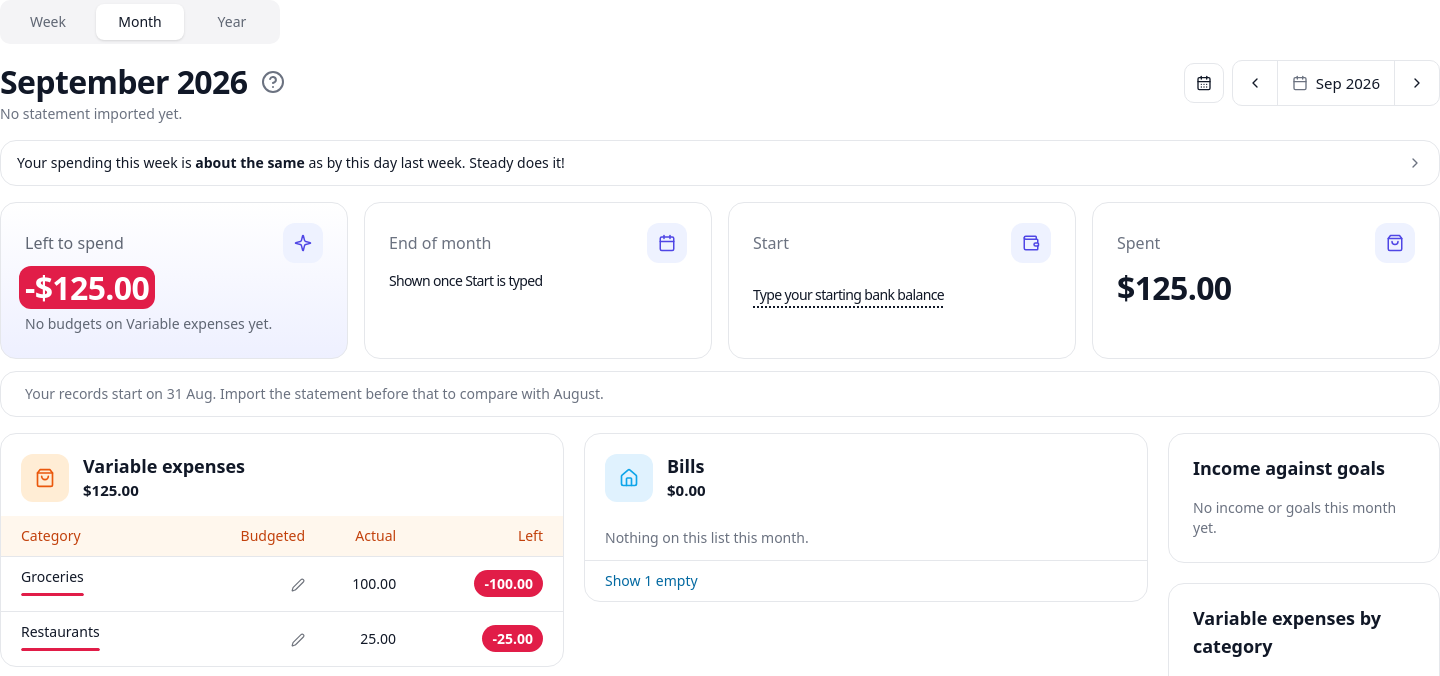
Test: Moving a charge from the Month › moves it, learns the shop by default, and re-reads the month
Expected: the column heading "Groceries" is shown, [1,556,182,611]
Click the button "Groceries": (52, 581) [21,567,84,596]
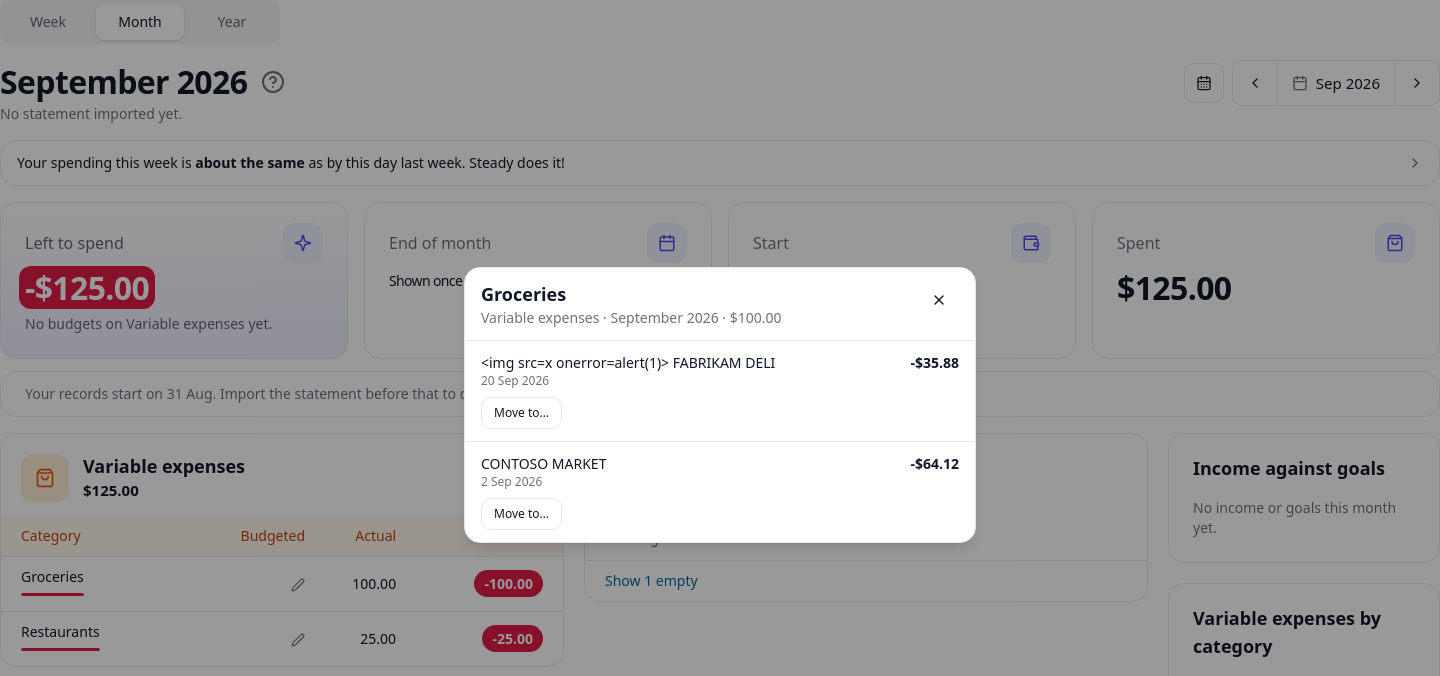
Click the button "Move to…" below "CONTOSO MARKET": (522, 514) [481,498,562,530]
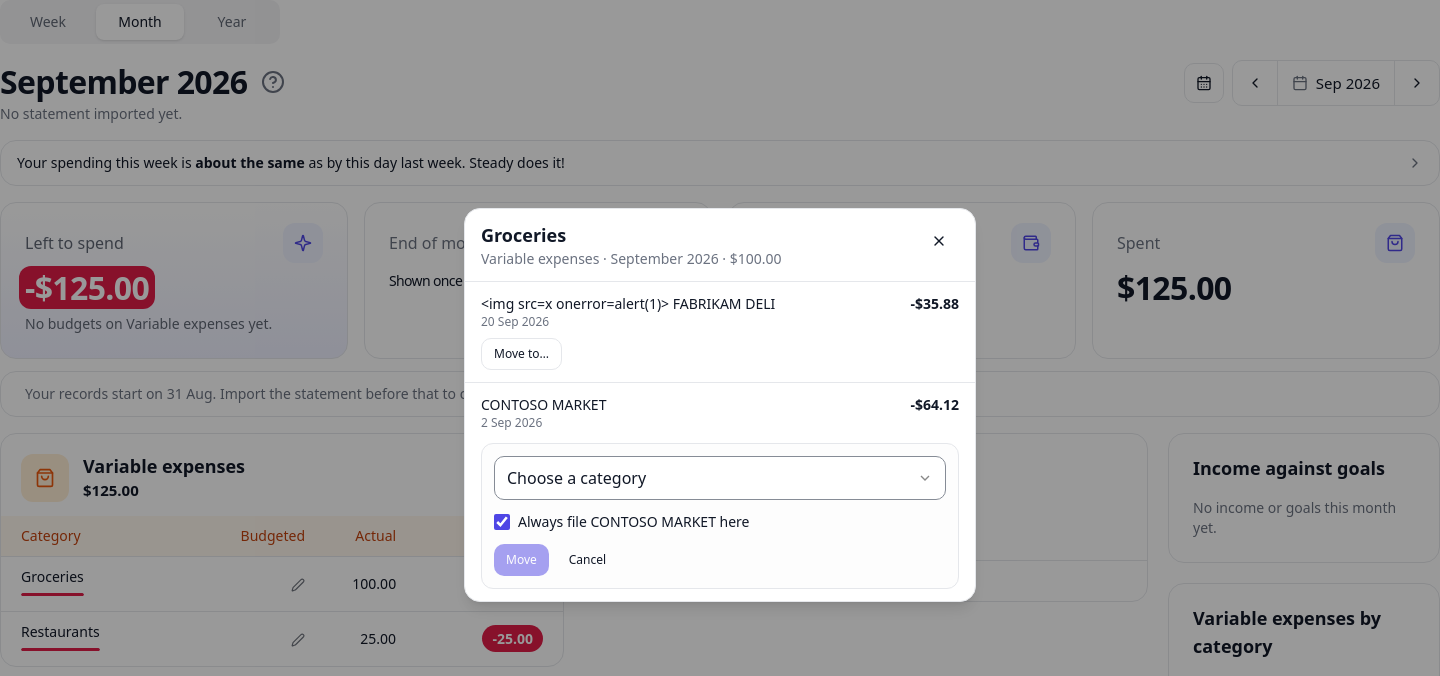
Now the button "Move" is disabled, box [494,544,549,576]
Now the checkbox labelled "Always file CONTOSO MARKET here" is checked, box [494,514,510,530]
Select "Restaurants" in the dropdown named "Move to": (720, 478) [494,456,946,500]
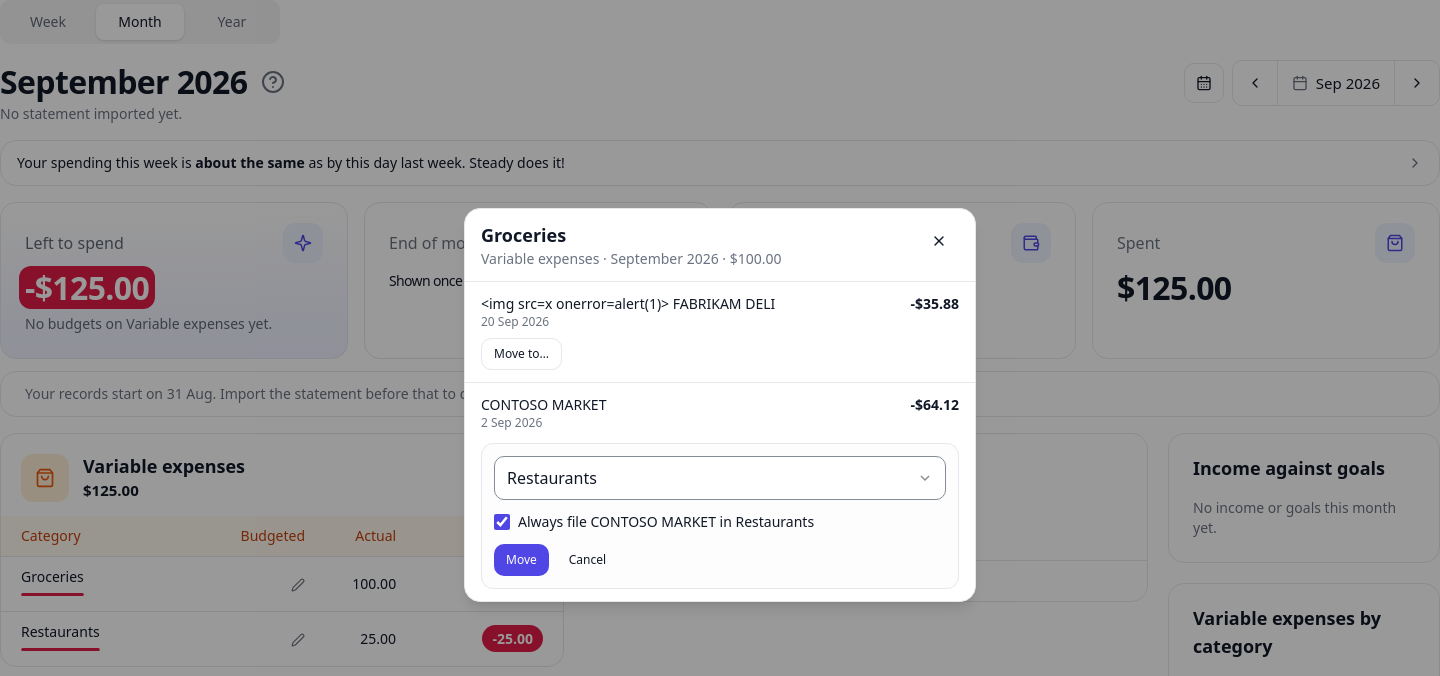
Click the button "Move": (521, 560) [494,544,549,576]
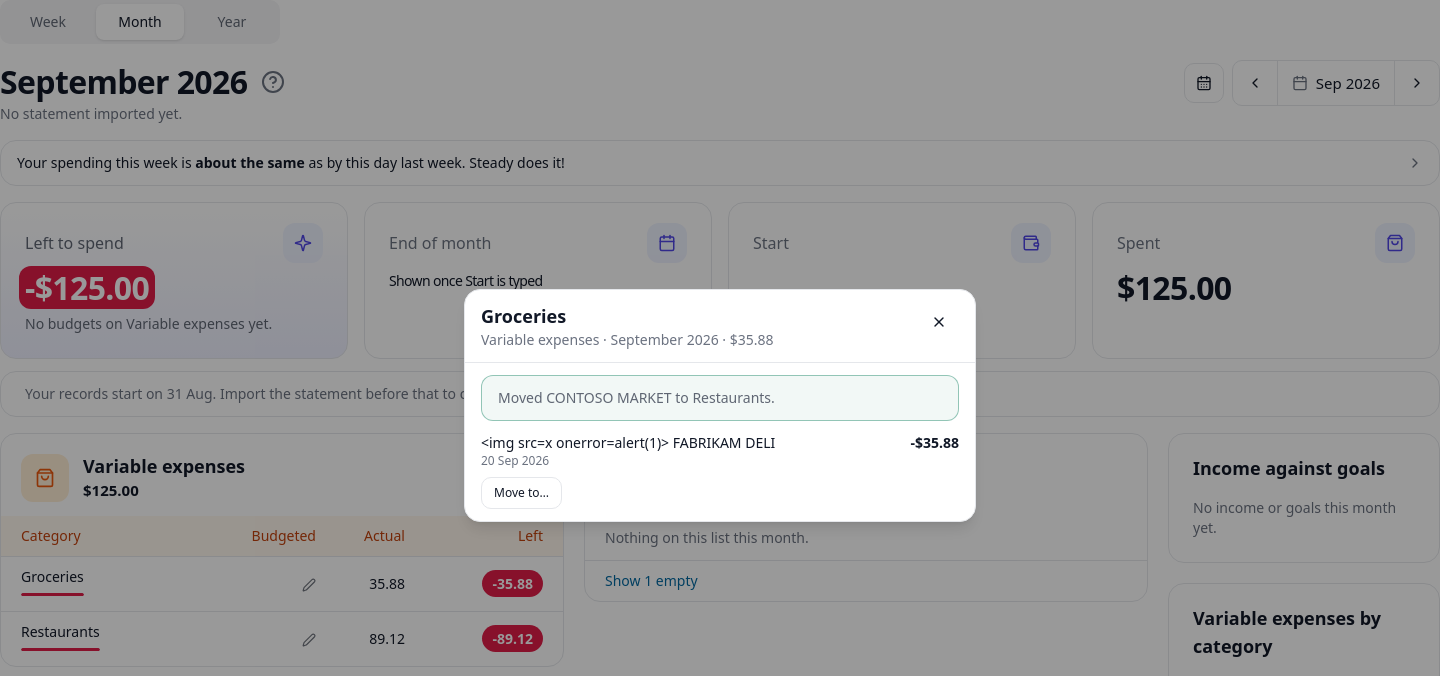
Now the message reads "Moved CONTOSO MARKET to Restaurants.", box [481,374,959,420]
Now the text "Variable expenses · September 2026 · $35.88" is shown, box [481,330,774,348]
Now the row "Restaurants" reads "Restaurants 89.12 -89.12", box [1,611,563,666]
